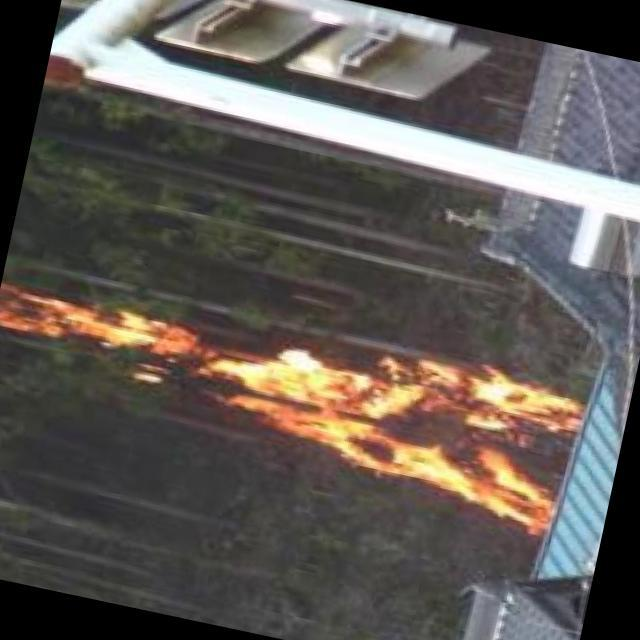Fire: (1, 253, 597, 536)
